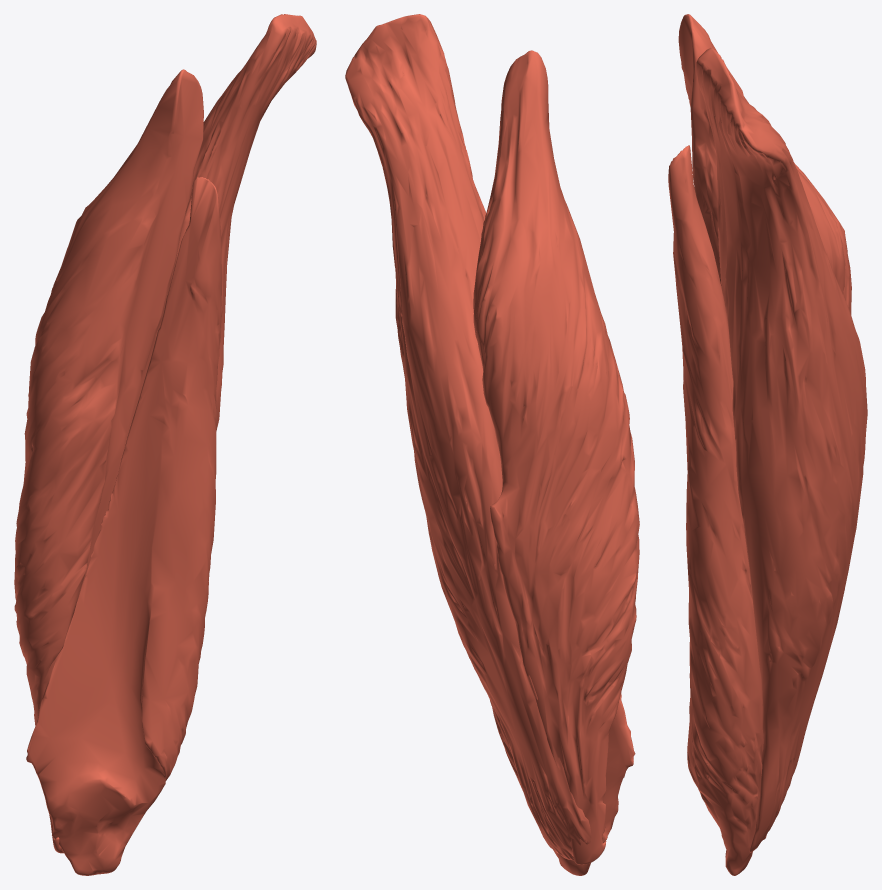
Rendered from triceps-brachii-right.glb.
3 views of the same model, side by side, from view 1: azimuth 30°, elevation 25°; view 2: azimuth 150°, elevation 25°; view 3: azimuth 270°, elevation 25° (orthographic). The views are drawn at different scales.
Parts seen in each view (by area): view 1: Medial head of biceps brachii muscle.r, Lateral head of triceps brachii muscle.r, Long head of biceps brachii muscle.r; view 2: Lateral head of triceps brachii muscle.r, Long head of biceps brachii muscle.r, Medial head of biceps brachii muscle.r; view 3: Long head of biceps brachii muscle.r, Medial head of biceps brachii muscle.r, Lateral head of triceps brachii muscle.r.
Part boxes in pixels (x1,y1,x2,y2): Medial head of biceps brachii muscle.r: (26, 177, 221, 875); Lateral head of triceps brachii muscle.r: (14, 69, 203, 853); Long head of biceps brachii muscle.r: (61, 14, 316, 851); Lateral head of triceps brachii muscle.r: (473, 50, 639, 864); Long head of biceps brachii muscle.r: (345, 14, 591, 860); Medial head of biceps brachii muscle.r: (490, 693, 635, 875); Long head of biceps brachii muscle.r: (696, 48, 867, 852); Medial head of biceps brachii muscle.r: (668, 145, 763, 875); Lateral head of triceps brachii muscle.r: (678, 14, 851, 839).
Bounding box in the file's own units: 0.1044 × 0.2781 × 0.0551.
